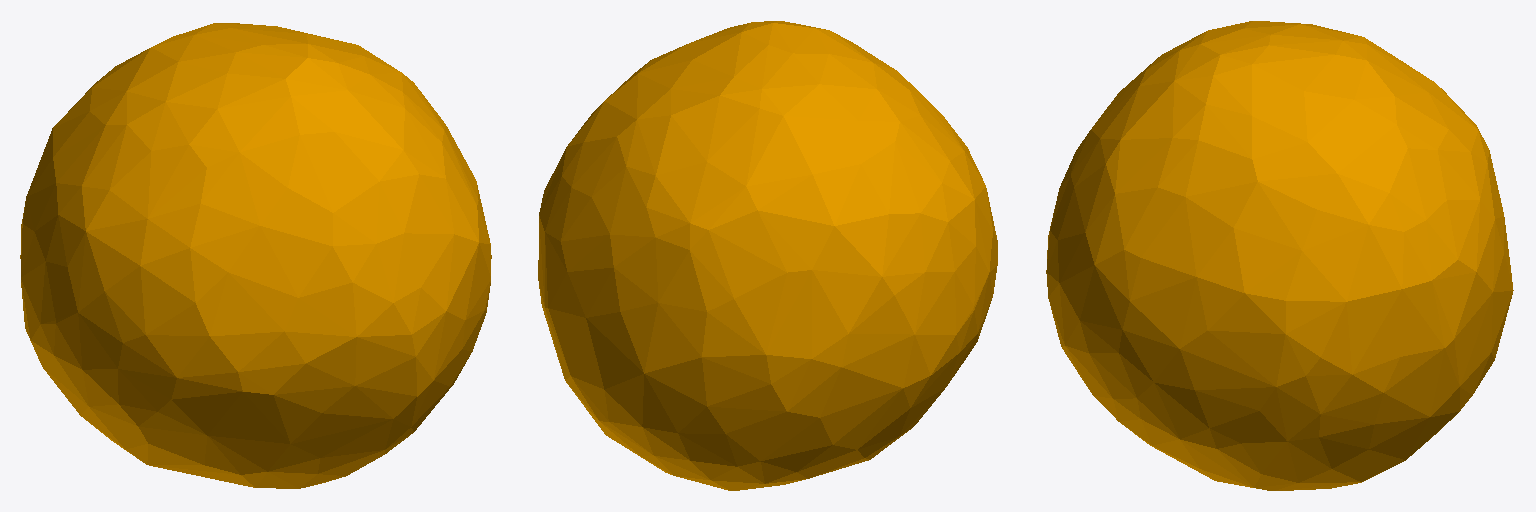
The robot description file, URDF, robot "053_mini_soccer_ball":
<?xml version="1.0" encoding="UTF-8"?>
<robot name="053_mini_soccer_ball">
	<link name="base">
		<collision>
			<geometry>
				<mesh filename="..\vhacd\053_mini_soccer_ball_vhacd.obj" scale="1.0 1.0 1.0"/>
			</geometry>
			<origin xyz="0 0 0"/>
			<contact_coefficients mu="0.24" />
		</collision>
		<visual>
			<geometry>
				<mesh filename="..\vhacd\053_mini_soccer_ball_vhacd.obj" scale="1.0 1.0 1.0"/>
			</geometry>
			<origin xyz="0 0 0"/>
		</visual>
		<inertial>
			<mass value="0"/>
			<inertia ixx="0.0" ixy="0.0" ixz="0.0" iyy="0.0" iyz="0.0" izz="0.0" />
			<origin xyz="-0.005912591430970404 0.01153056180951366 0.06131555339639221"/>
		</inertial>
	</link>
</robot>

--- Facts derived from the render (not from the file) ---
3 views of the same robot in one strip: view 1: azimuth 30°, elevation 25°; view 2: azimuth 150°, elevation 25°; view 3: azimuth 270°, elevation 25° (orthographic).
Model 053_mini_soccer_ball with 1 links and 0 joints (none), rooted at base, posed all joints at 0.
Visible links, largest first — view 1: base; view 2: base; view 3: base.
Link boxes in pixels (left/top/right/bottom): base: left=20, top=23, right=491, bottom=488; base: left=538, top=21, right=997, bottom=490; base: left=1046, top=21, right=1513, bottom=490.
Bounding box of the posed robot: 0.1286 × 0.1286 × 0.126 m (x, y, z).
1 mesh visuals loaded from 1 distinct referenced files (1 OBJ).